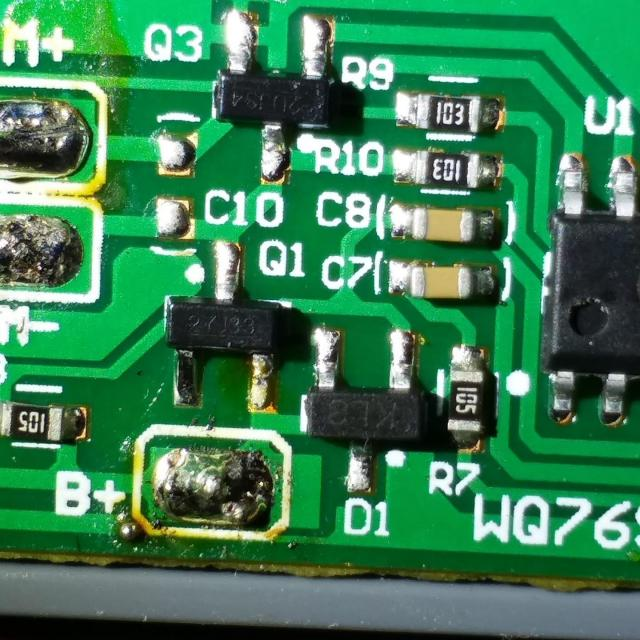4439: (162, 259, 274, 393), (217, 34, 333, 150), (304, 352, 412, 470)
IC: (552, 165, 638, 418)
capacitor 1V5: (410, 207, 493, 250), (417, 266, 482, 301)
resistor IR1: (450, 360, 493, 453), (414, 148, 486, 196), (410, 91, 486, 135), (6, 397, 68, 443)
